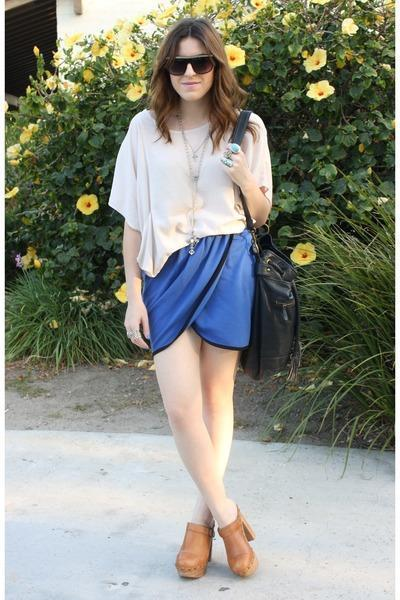bag: (237, 228, 306, 380)
shirt: (108, 98, 272, 275)
shoe: (175, 508, 257, 580)
skirt: (140, 228, 251, 353)
sunglass: (190, 50, 223, 83)
